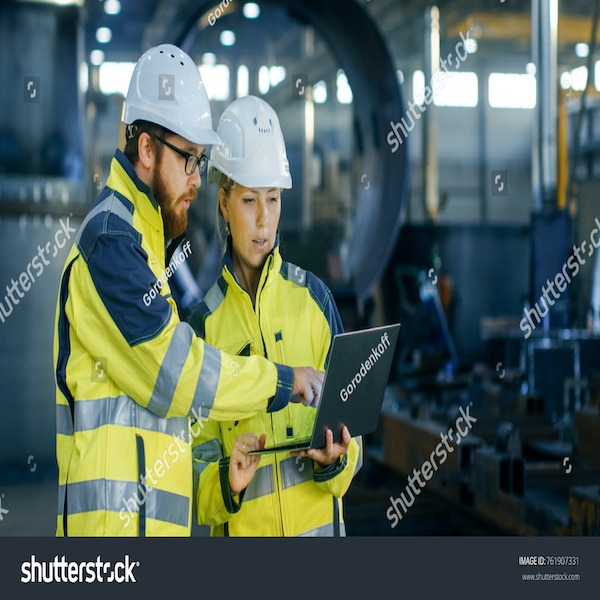helmet: (213, 100, 293, 188), (125, 47, 210, 128)
vest: (58, 191, 193, 543), (202, 267, 358, 519)
